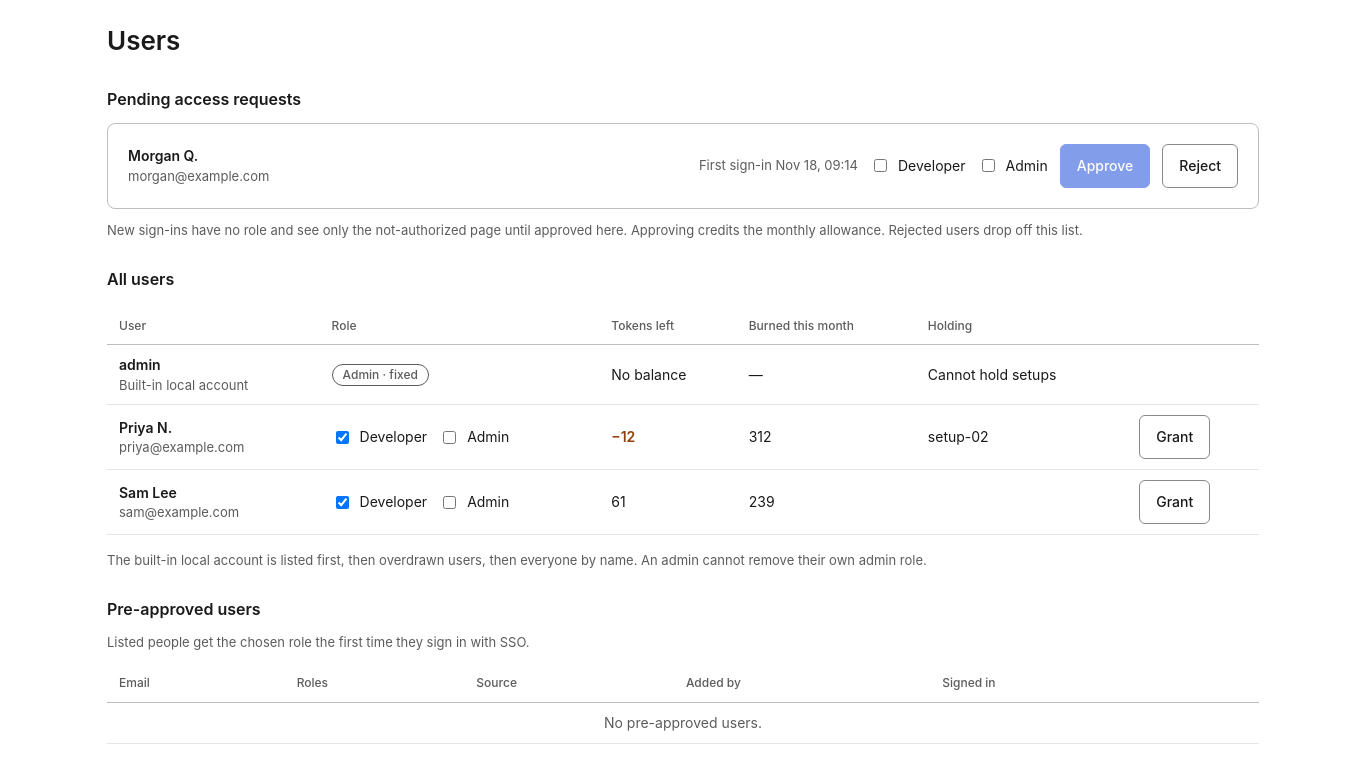
Test: LED-4 grant and LED-5 reset › grants a negative amount with a reason
Expected: the table named "Users" is shown, [107,307,1259,535]
Click the button with aria-label "Grant to Priya N.". click: (1175, 437)
box: [1139,415,1210,459]
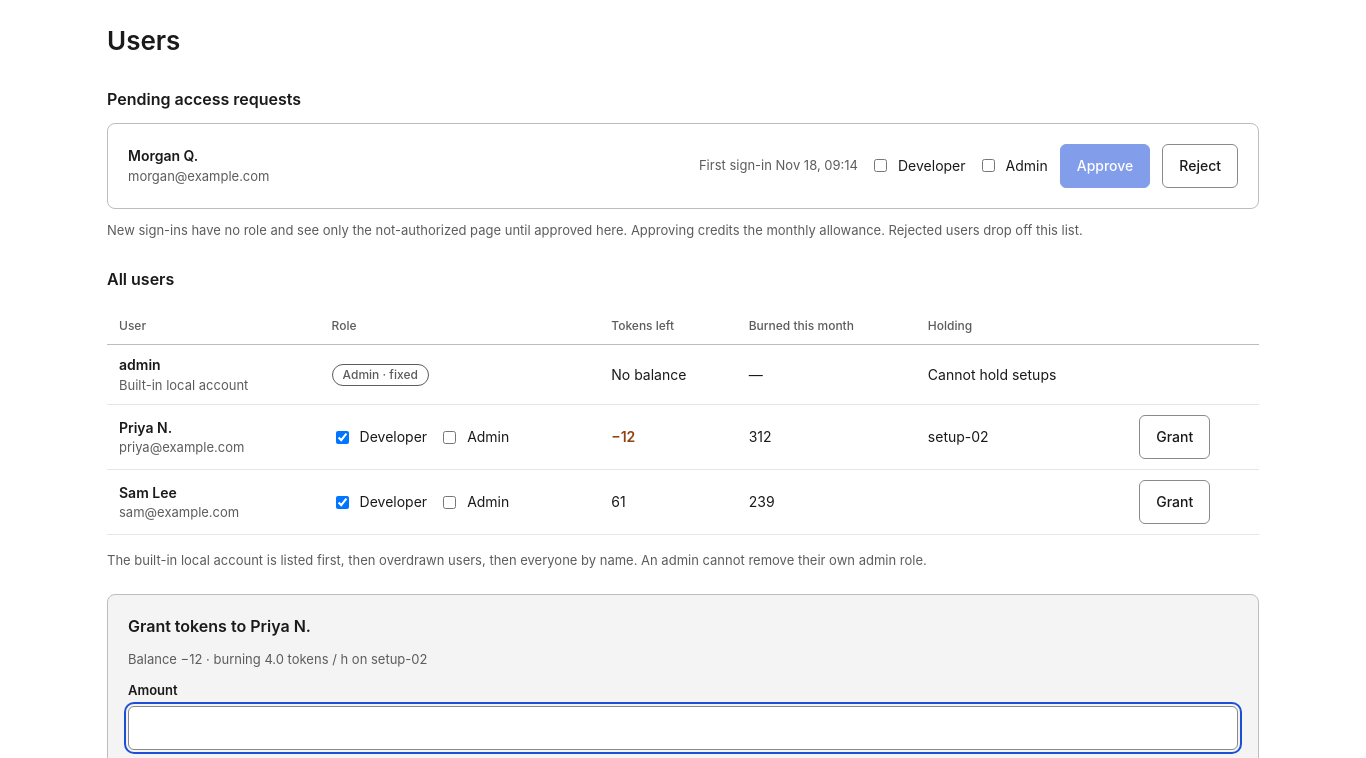
Type "-25" into the field labelled "Amount". click: (683, 728)
box: [128,706,1238,750]
(page scrolled)
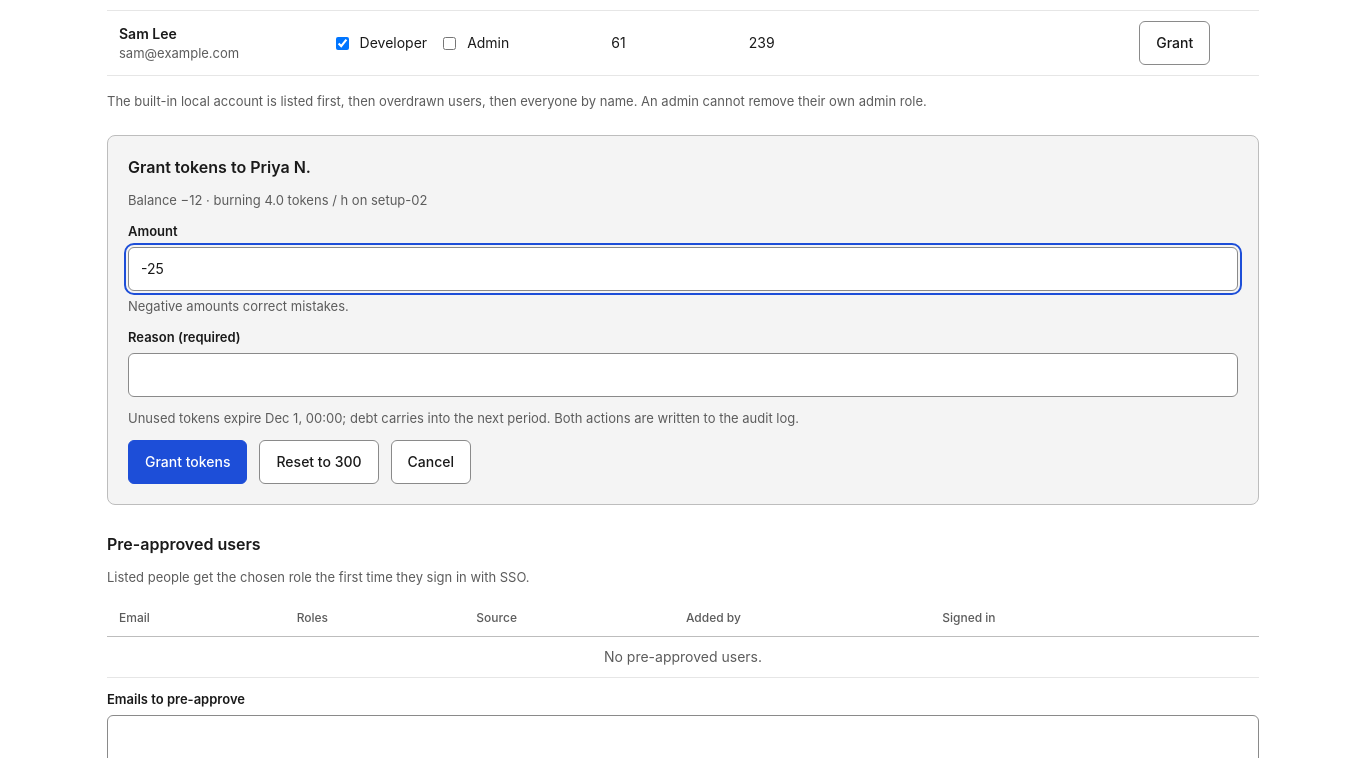
Type "fix mistake" into the field labelled "Reason (required)". click: (683, 375)
box: [128,353,1238,397]
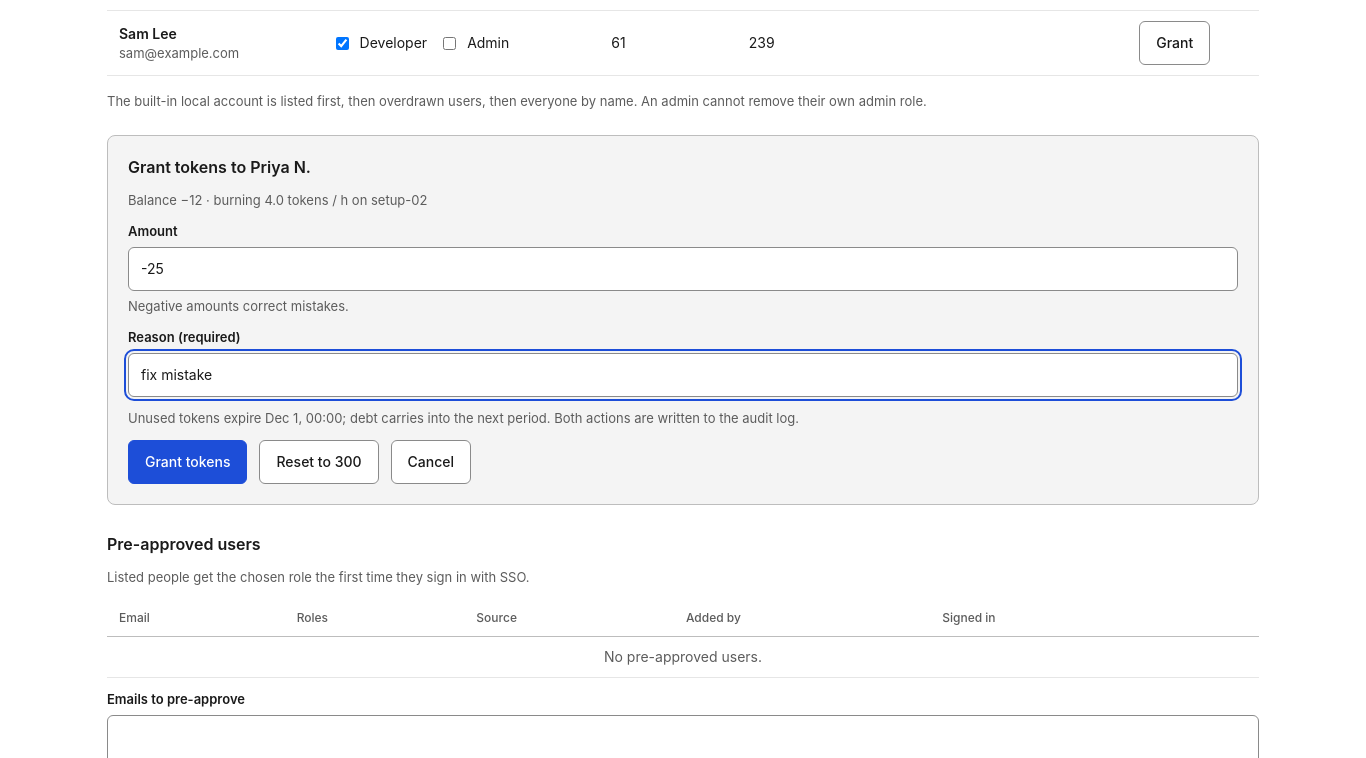
Click the button "Grant tokens". click: (188, 462)
box: [128,440,248,484]
(page scrolled)
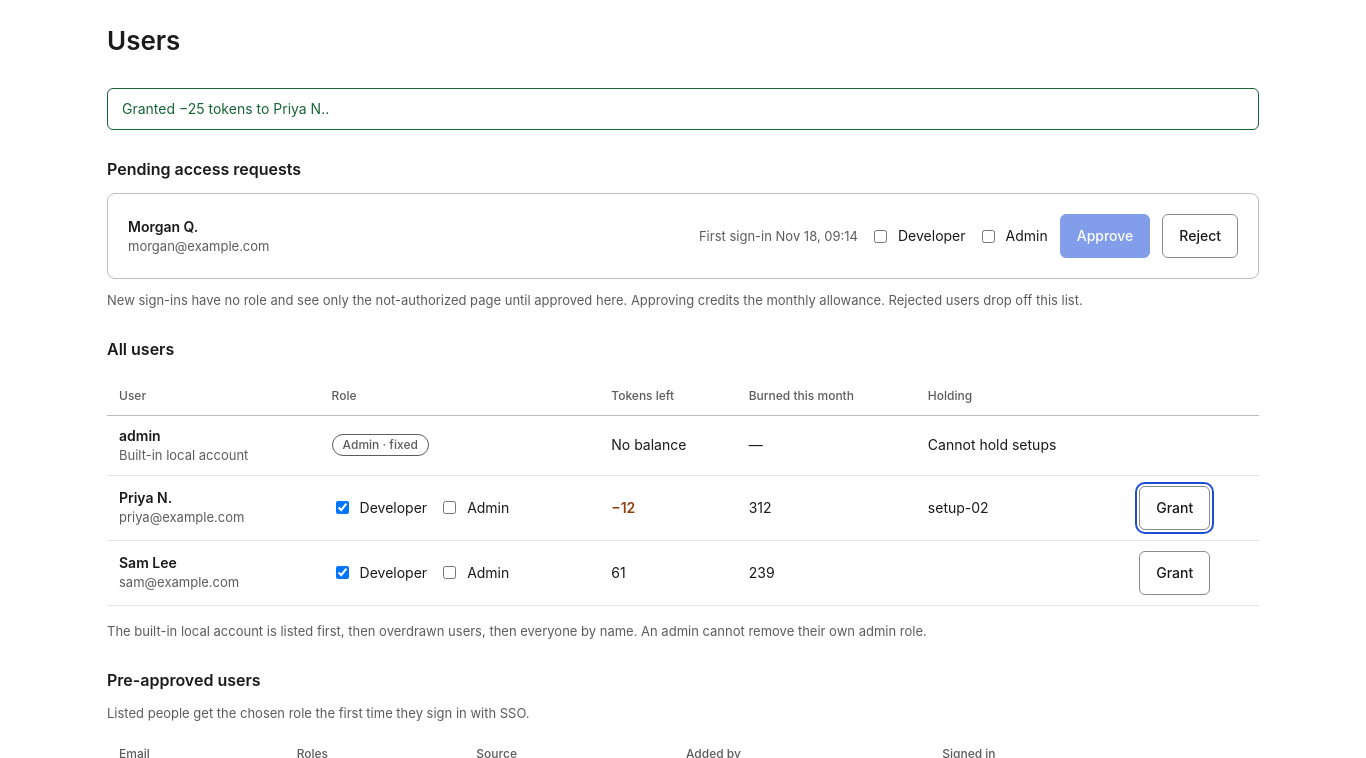
Expected: the text "Granted −25 tokens to Priya N.." is shown, [107,88,1259,130]
